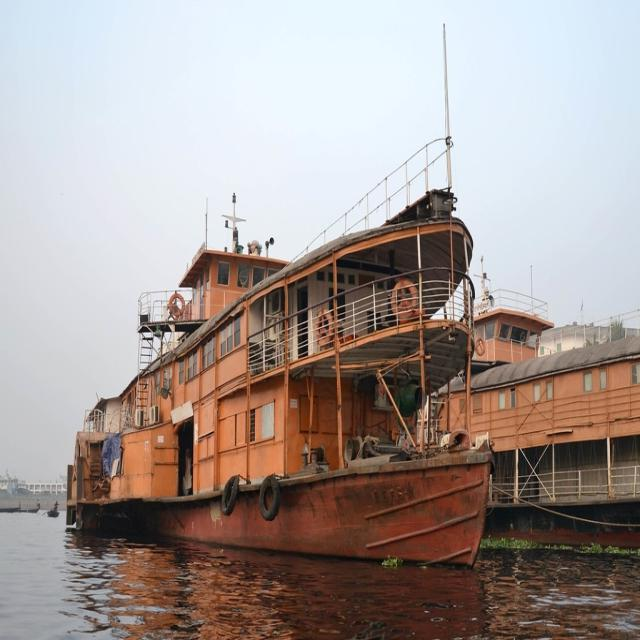Hyacinth: (575, 544, 631, 556), (480, 538, 529, 551), (379, 556, 399, 568)
boat: (60, 153, 483, 559), (45, 494, 64, 523), (20, 503, 39, 518), (0, 505, 19, 517)
